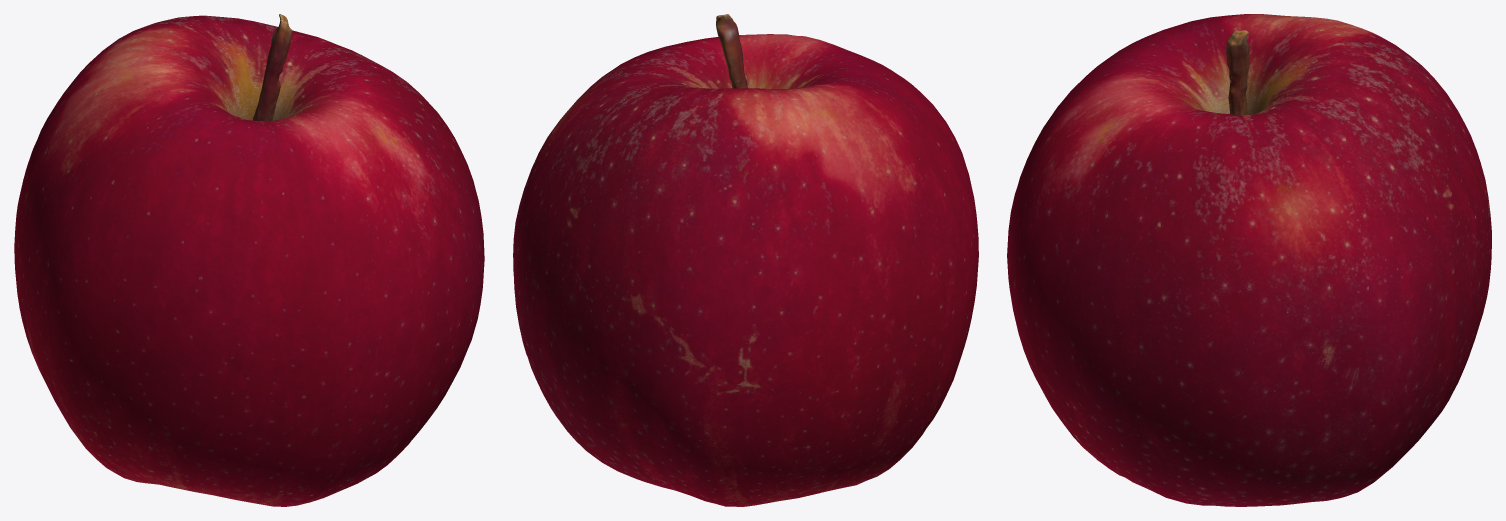
File: SM_Apples.fbx
3 renders of one model, left to right at view 1: azimuth 30°, elevation 25°; view 2: azimuth 150°, elevation 25°; view 3: azimuth 270°, elevation 25°, orthographic. The views are drawn at different scales.
Parts seen in each view (by area): view 1: Red_Apple_tgzoahbpa_LOD0; view 2: Red_Apple_tgzoahbpa_LOD0; view 3: Red_Apple_tgzoahbpa_LOD0.
Boxes of the visible parts, x1,y1,x2,y2 form: Red_Apple_tgzoahbpa_LOD0: (14, 14, 484, 506); Red_Apple_tgzoahbpa_LOD0: (513, 14, 978, 506); Red_Apple_tgzoahbpa_LOD0: (1007, 14, 1491, 506).
Size of the model in its own units: 7.56 by 8 by 7.66.
1 material, 1 textured.
